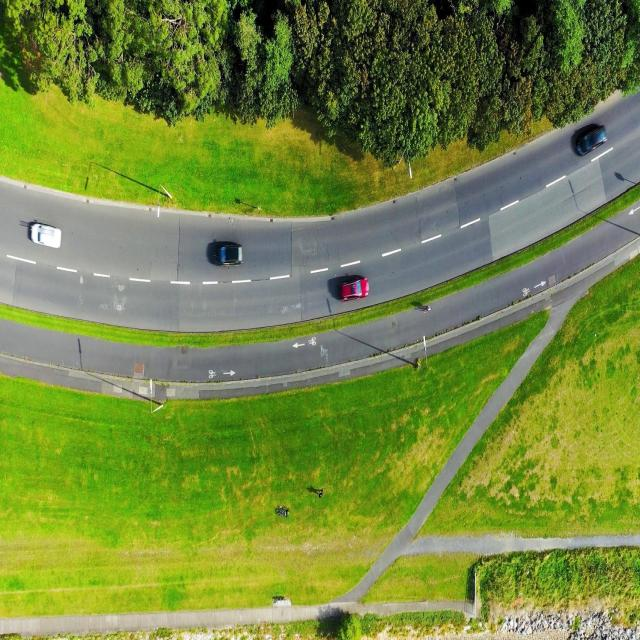Car: (331, 260, 376, 312), (574, 123, 608, 157), (29, 221, 61, 248), (209, 241, 243, 266), (422, 304, 431, 312)
